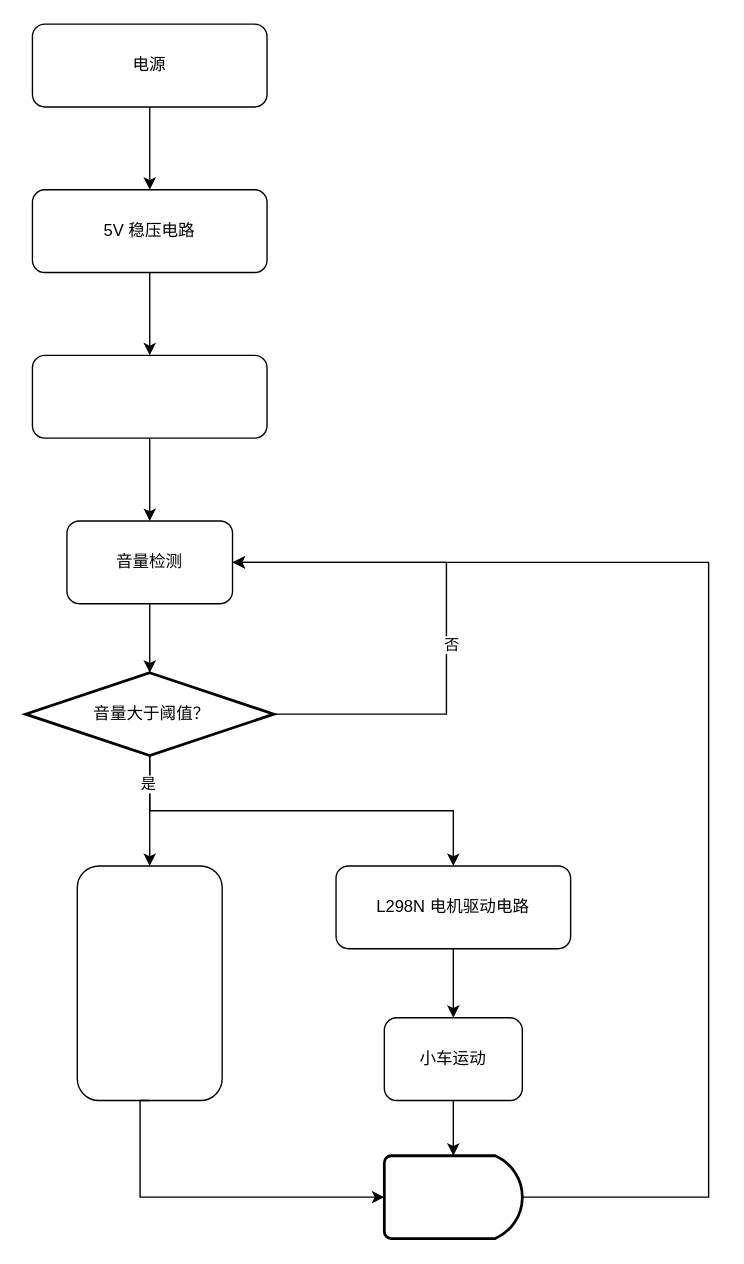
The diagram is 744 pixels wide and 1264 high, and some of its shapes have lost their labels. Here are the shapes that lost their labels. From the top down, the centre of each, then its label:
At point 149,396: "MSP430F5529 微控制器".
At point 149,983: "播放音乐".
At point 452,1196: "等待5秒".
